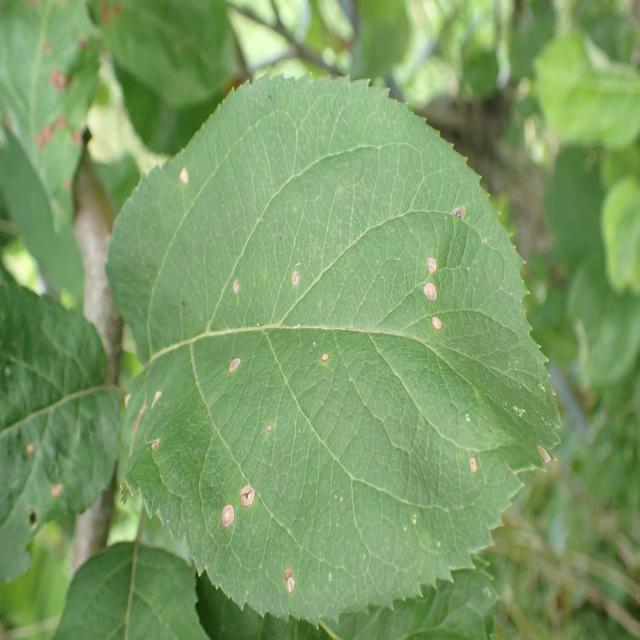Black Rot: (405, 242, 444, 284), (173, 151, 201, 206), (528, 441, 568, 477), (464, 433, 489, 490), (441, 192, 472, 235), (277, 564, 313, 598), (305, 339, 336, 378), (422, 306, 453, 345), (143, 388, 180, 420), (289, 259, 312, 308), (238, 475, 258, 530), (216, 497, 243, 537), (146, 431, 177, 462), (229, 271, 257, 305), (44, 470, 66, 500), (226, 347, 246, 378), (424, 276, 444, 306)
